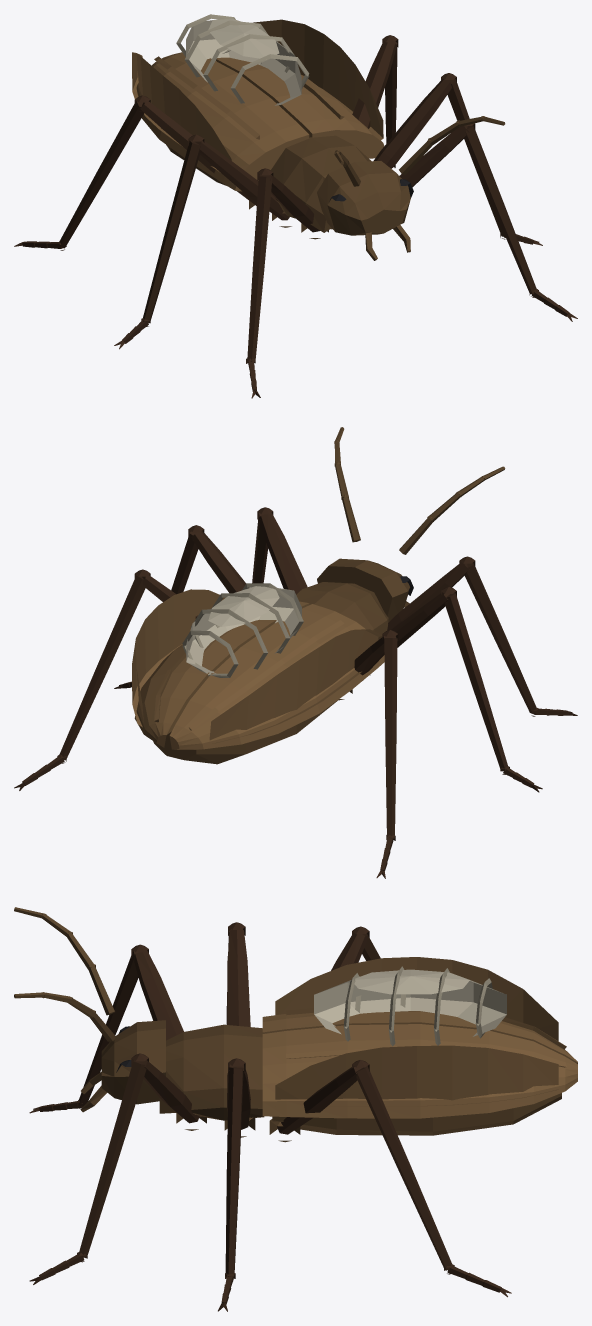
Rendered from medic.glb.
3 renders of one model, top to bottom at view 1: azimuth 30°, elevation 25°; view 2: azimuth 150°, elevation 25°; view 3: azimuth 270°, elevation 25°, orthographic. The views are drawn at different scales.
Parts seen in each view (by area): view 1: BeetlePlate_01, BeetlePlate_flange, HeadBase001, BeetlePlate_00, ThoraxCore, med_pod, Tibia001, Tibia003, med_thread, Tibia000, Femur002, Tibia005 (+7 smaller); view 2: BeetlePlate_flange, BeetlePlate_01, BeetlePlate_00, med_pod, HeadBase001, ThoraxCore, Tibia004, Tibia005, med_thread, Tibia003, Tibia001, BeetleBodyInner (+7 smaller); view 3: BeetlePlate_flange, BeetlePlate_00, med_pod, ThoraxCore, BeetleBodyInner, BeetlePlate_01, HeadBase001, Tibia004, Tibia002, Tibia000, Femur003, Femur001 (+6 smaller).
Boxes of the visible parts, bbox=[...] form: BeetlePlate_01: bbox=[136, 52, 309, 191]; BeetlePlate_flange: bbox=[132, 19, 383, 172]; HeadBase001: bbox=[317, 161, 410, 235]; BeetlePlate_00: bbox=[216, 57, 384, 158]; ThoraxCore: bbox=[270, 135, 371, 232]; med_pod: bbox=[186, 18, 301, 105]; Tibia001: bbox=[247, 176, 272, 361]; Tibia003: bbox=[143, 140, 200, 323]; med_thread: bbox=[176, 14, 309, 103]; Tibia000: bbox=[464, 125, 536, 294]; Femur002: bbox=[373, 79, 453, 168]; Tibia005: bbox=[59, 101, 144, 248]; BeetlePlate_flange: bbox=[132, 589, 382, 743]; BeetlePlate_01: bbox=[169, 604, 384, 749]; BeetlePlate_00: bbox=[134, 601, 309, 747]; med_pod: bbox=[186, 586, 301, 673]; HeadBase001: bbox=[317, 558, 409, 621]; ThoraxCore: bbox=[296, 582, 389, 634]; Tibia004: bbox=[59, 575, 145, 760]; Tibia005: bbox=[384, 638, 397, 838]; med_thread: bbox=[182, 583, 303, 677]; Tibia003: bbox=[444, 593, 508, 771]; Tibia001: bbox=[464, 562, 537, 713]; BeetleBodyInner: bbox=[153, 700, 337, 764]; BeetlePlate_flange: bbox=[275, 957, 558, 1106]; BeetlePlate_00: bbox=[262, 1024, 577, 1118]; med_pod: bbox=[314, 969, 506, 1036]; ThoraxCore: bbox=[159, 1024, 264, 1120]; BeetleBodyInner: bbox=[272, 1093, 561, 1135]; BeetlePlate_01: bbox=[262, 1008, 577, 1063]; HeadBase001: bbox=[101, 1020, 165, 1104]; Tibia004: bbox=[356, 1066, 451, 1270]; Tibia002: bbox=[225, 1067, 243, 1277]; Tibia000: bbox=[78, 1060, 147, 1257]; Femur003: bbox=[227, 930, 250, 1026]; Femur001: bbox=[133, 951, 183, 1040].
Bounding box in the file's own units: 3.37 × 1.69 × 3.5.
